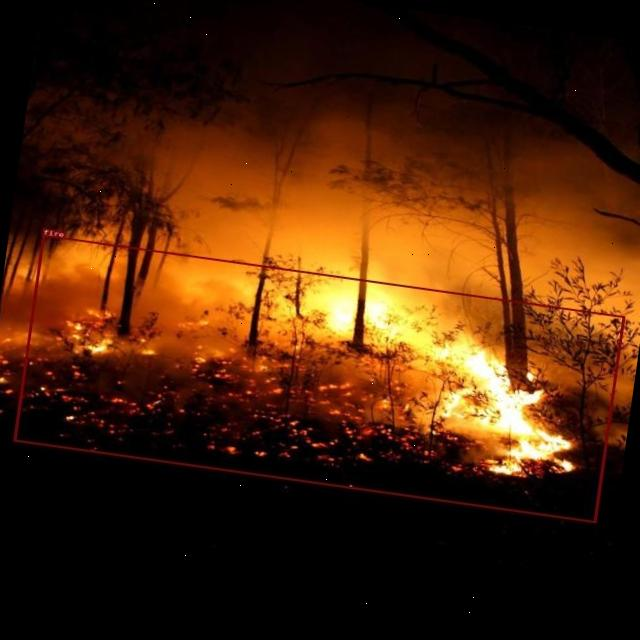fire: (13, 235, 624, 522)
